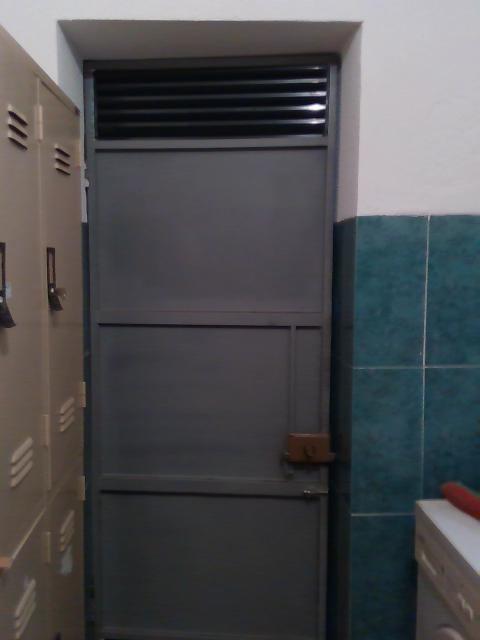door: (84, 49, 339, 640)
